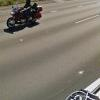Motorcycle: (3, 0, 52, 34)
